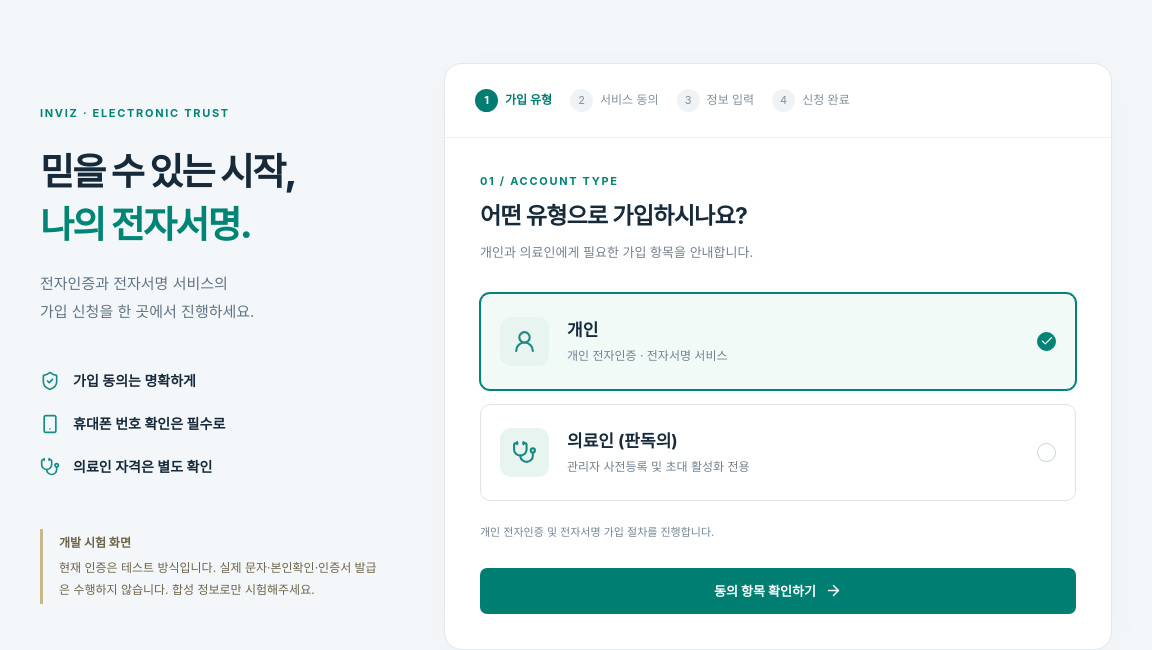
Test: RegistrationView Account Type Distinction Tests › explains doctor invitation requirement and links to #/activate and #/doctors when clinician type is selected
// Click on clinician / doctor radio option
Click the radio button labelled "의료인 (판독의) 관리자 사전등록 및 초대 활성화 전용".
click(524, 452)  # box 480,404 -> 1076,501
(page scrolled)
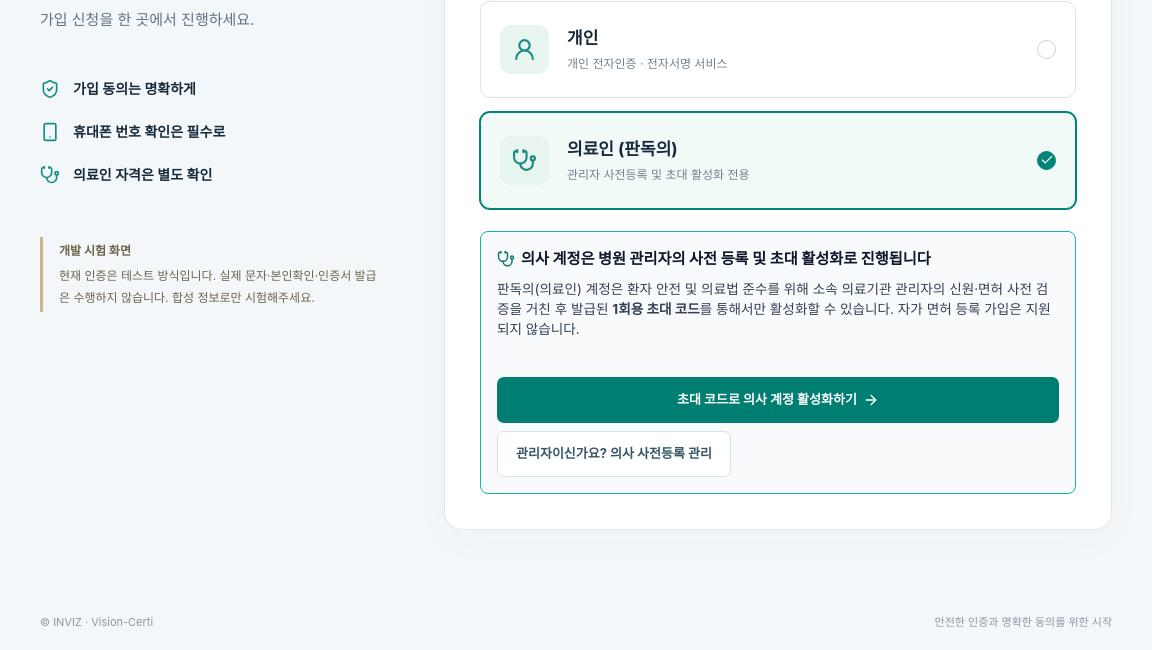
expect the element with test id "clinician-activation-notice" is shown: met, box 480,231 -> 1076,494
expect the element with test id "clinician-activation-notice" shows "의사 계정은 병원 관리자의 사전 등록": met, box 521,249 -> 931,268
